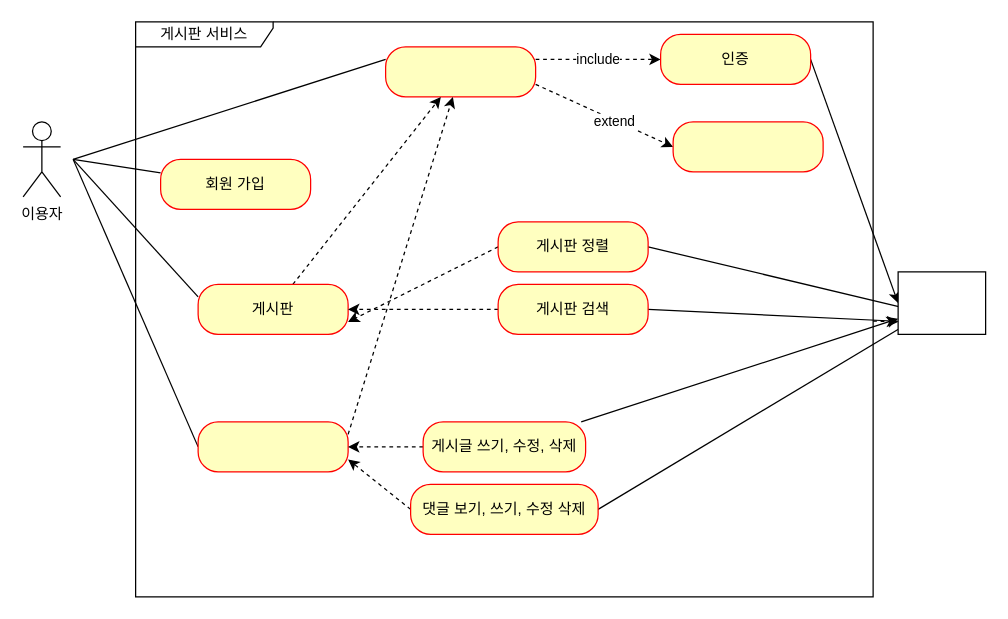
Image size: 1008x619. Some labels were removed from this diagram. The shapes that lost their labels are listed below. From the top down, each one's centre as x and y in pixels, then its label:
the point at 460,71: 로그인
the point at 747,146: 로그인 실패
the point at 941,302: DB
the point at 272,446: 게시글 만들기
